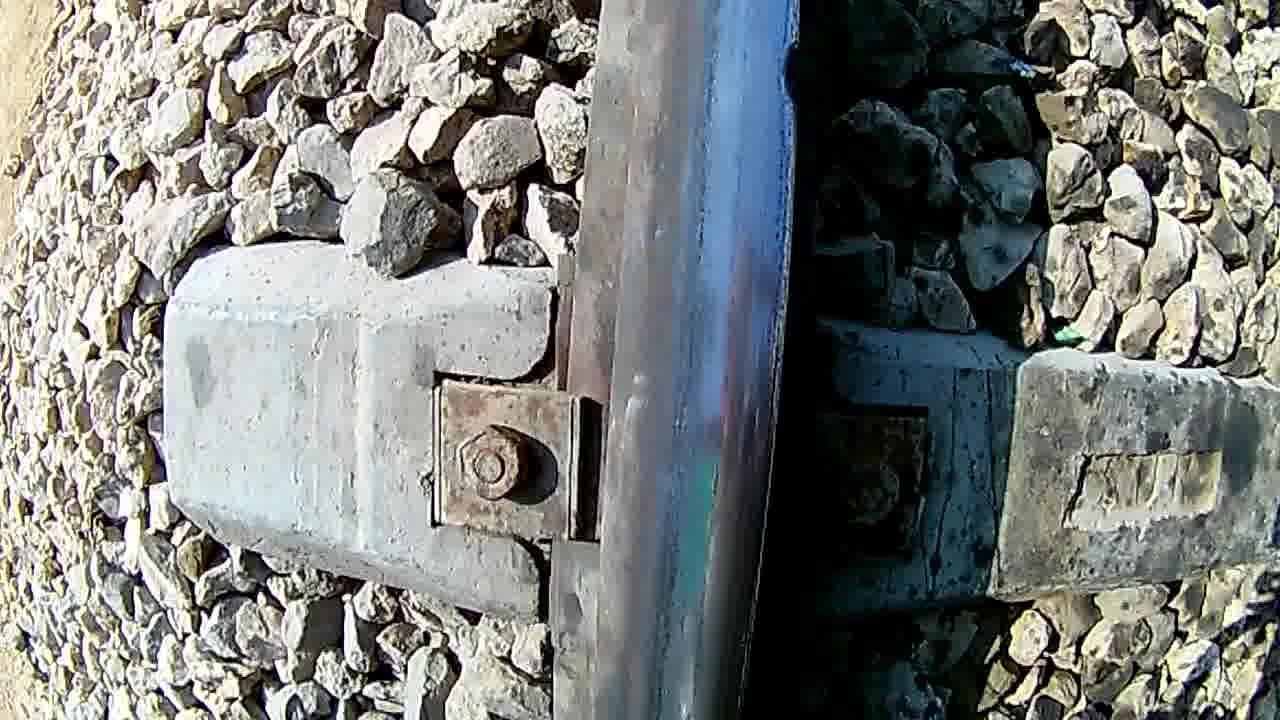crack: (595, 6, 785, 720)
